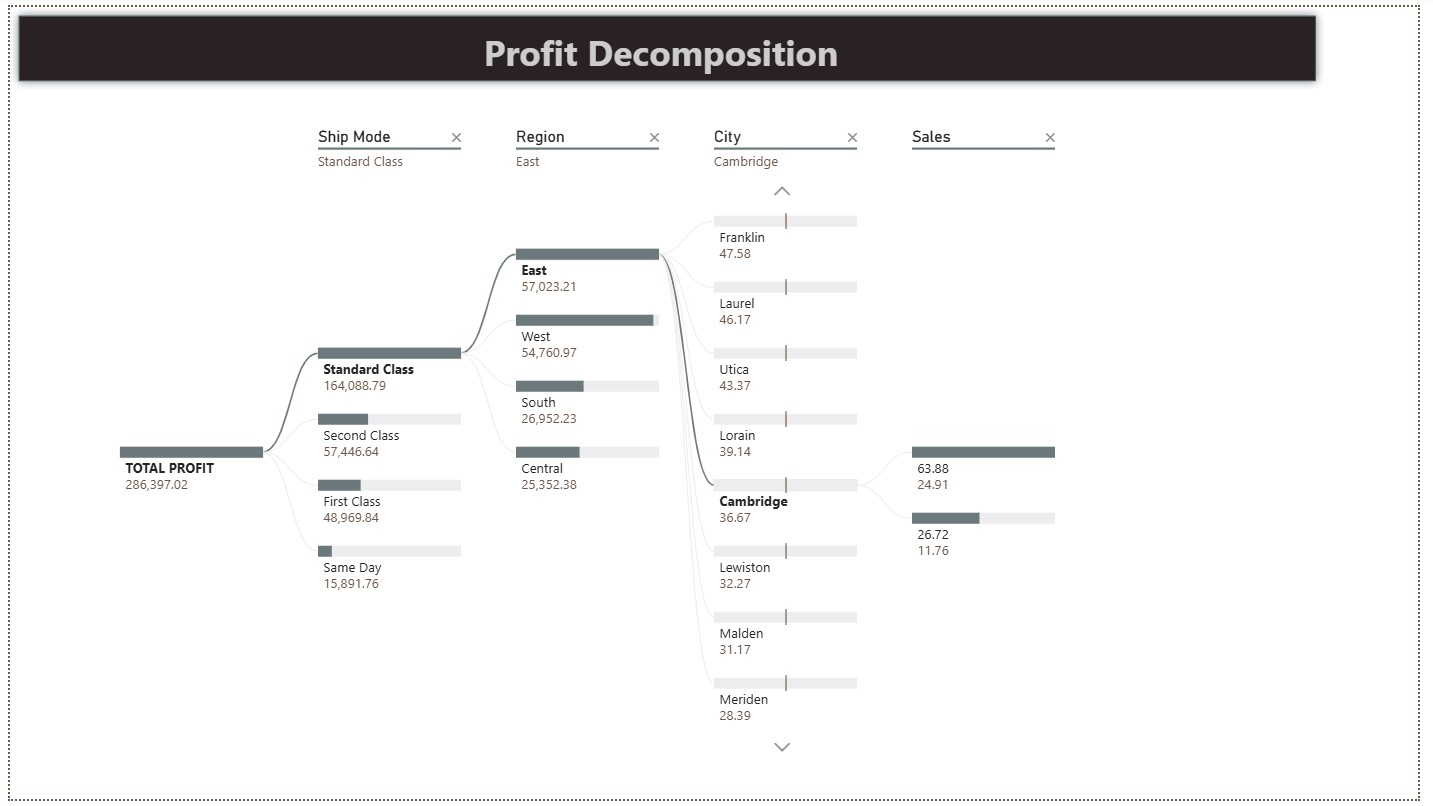

The page's visual inventory and layout, read from the dashboard file:
{"tool":"powerbi","page":{"name":"Profit Decomposition","canvas":[1280,720],"ordinal":4},"visuals":[{"type":"decompositionTreeVisual","fields":{"Analyze":["DATE TABLE.TOTAL PROFIT"],"ExplainBy":["Sample - Superstore.Ship Mode","Sample - Superstore.Region","Sample - Superstore.City","Sample - Superstore.Sales"]},"box":[70,93.1,1105.7,602.1],"z":0},{"type":"shape","box":[0,0,1195.3,75.4],"z":1000},{"type":"textbox","box":[0,13.3,1183.7,62.1],"z":2000}]}

Visuals, with their boxes in screenshot pixels (x1, y1, x2, y2), scaled from the page's 1280x720 canvas onto the 1433x806 screenshot:
decompositionTreeVisual - DATE TABLE.TOTAL PROFIT x Sample - Superstore.Ship Mode: crop(78, 104, 1316, 778)
shape: crop(0, 0, 1338, 84)
textbox: crop(0, 15, 1325, 84)
